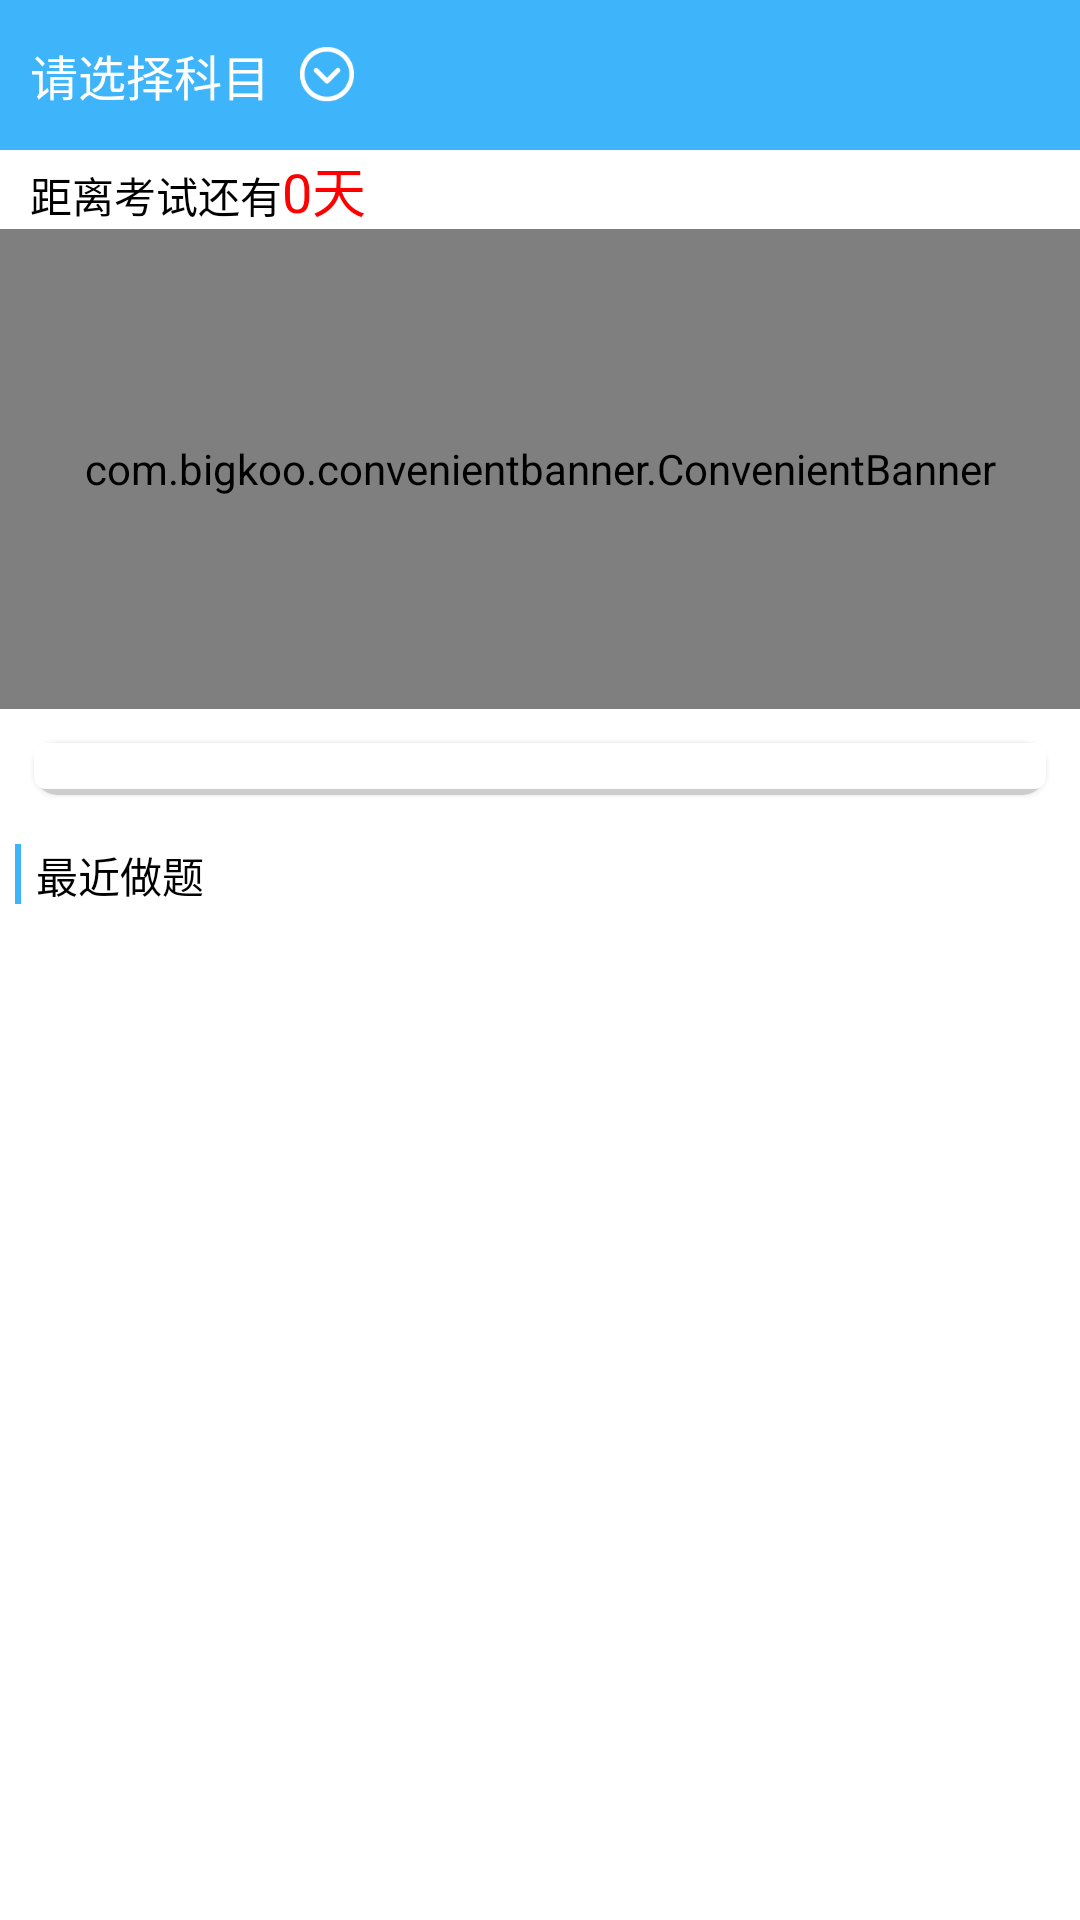

Icon click points for this 1080px x 1920px phone screenshot, format (x=x, y=y):
select more: (x=327, y=74)
